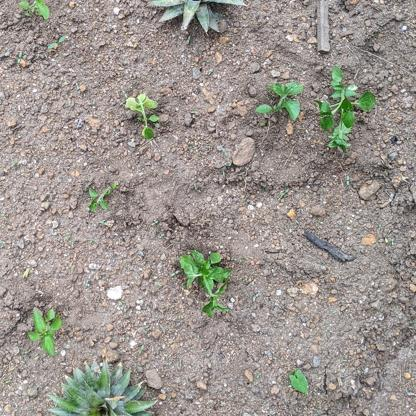pineapple: (45, 359, 157, 416), (146, 1, 248, 38)
weed: (312, 67, 379, 150), (178, 246, 233, 315), (252, 79, 305, 125), (121, 91, 165, 142), (25, 306, 66, 356), (86, 175, 117, 214)
